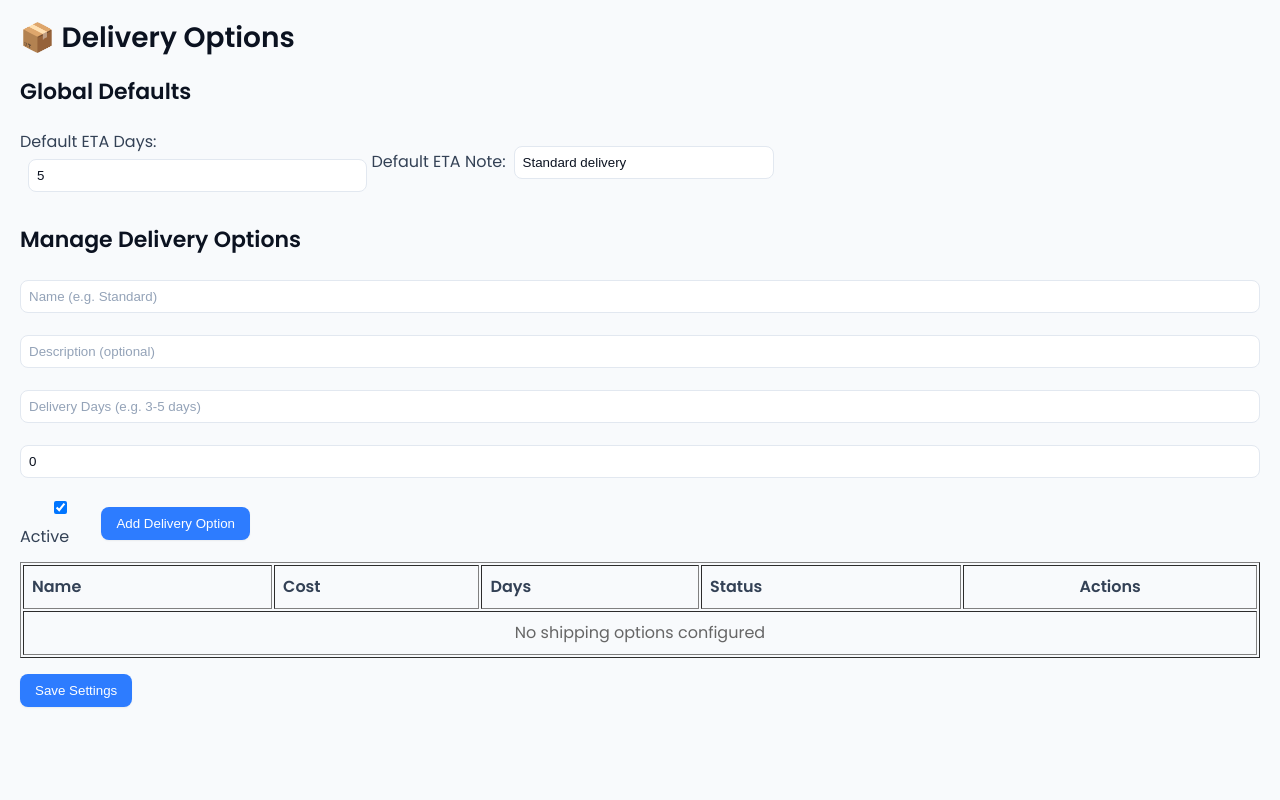
it: AdminDeliveryOptions › can add a delivery option
In the field with placeholder "Name (e.g. Standard)": x=640, y=297 [20,280,1260,313], type "Express"
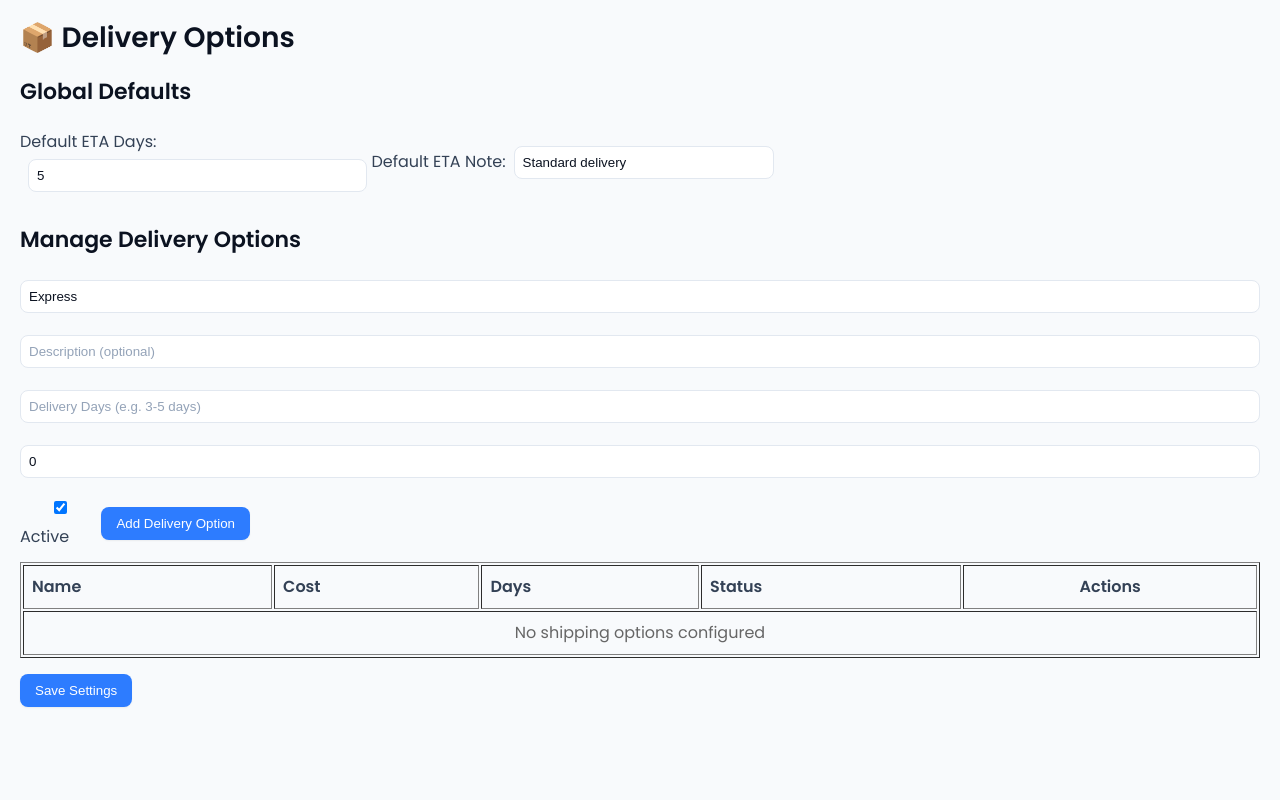
In the field with placeholder "Delivery Days (e.g. 3-5 days)": x=640, y=407 [20,390,1260,423], type "1-2"
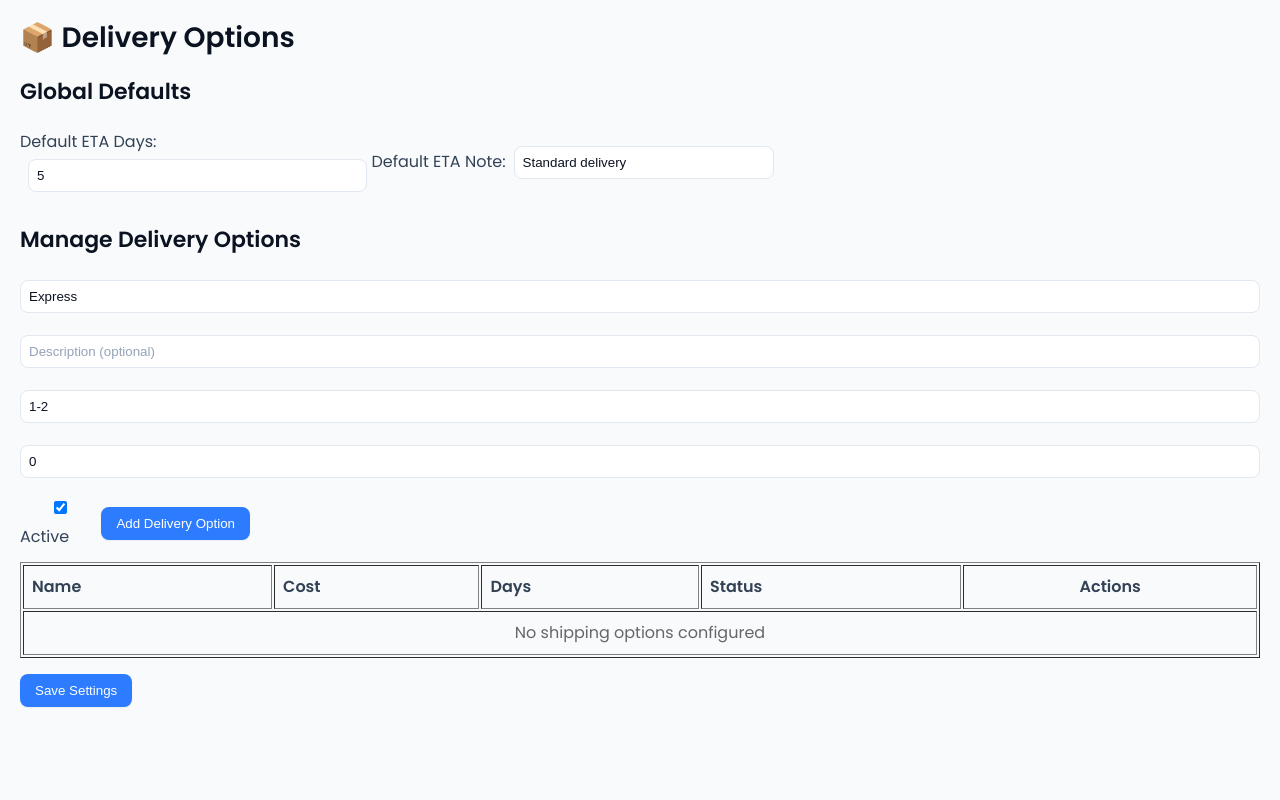
Replace the text in the number field with placeholder "Cost (e.g. 5.00)" with "10": x=640, y=462 [20,445,1260,478]
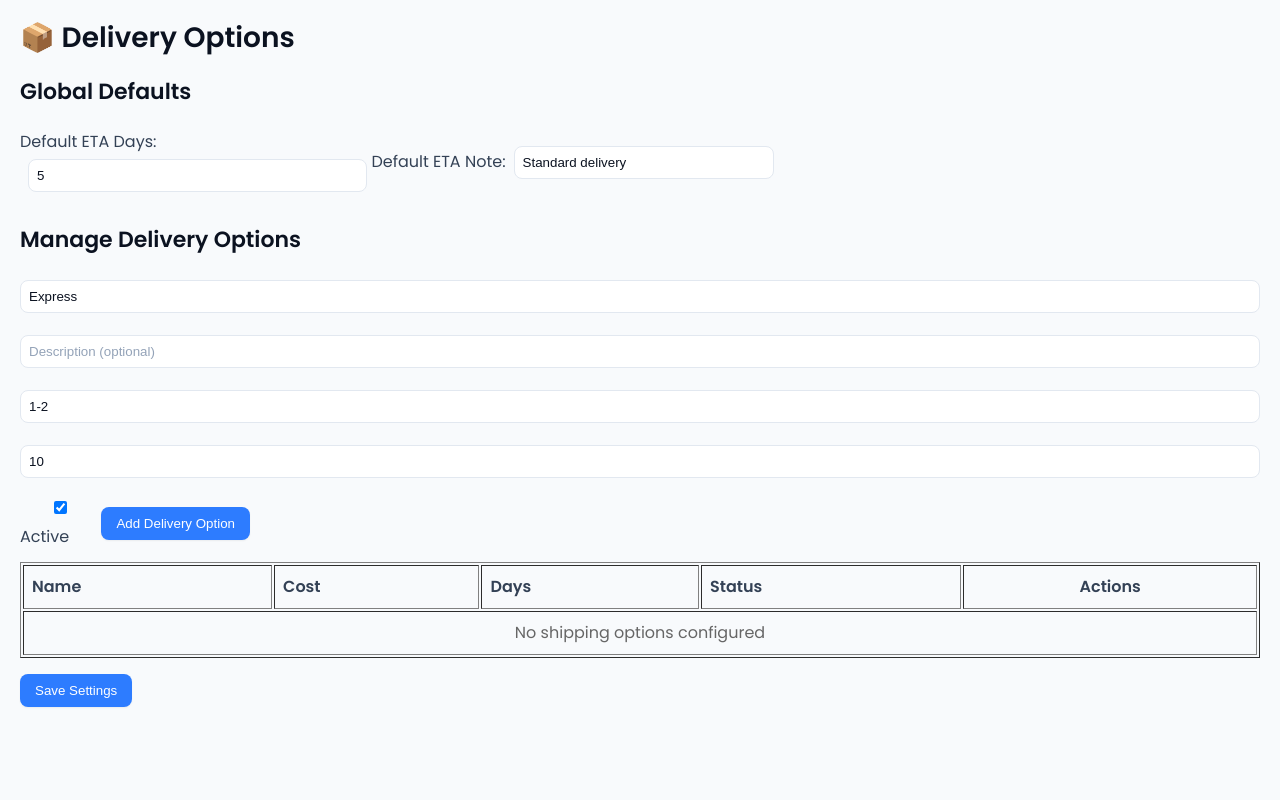
Click the button "Add Delivery Option": x=176, y=523 [101,507,250,540]
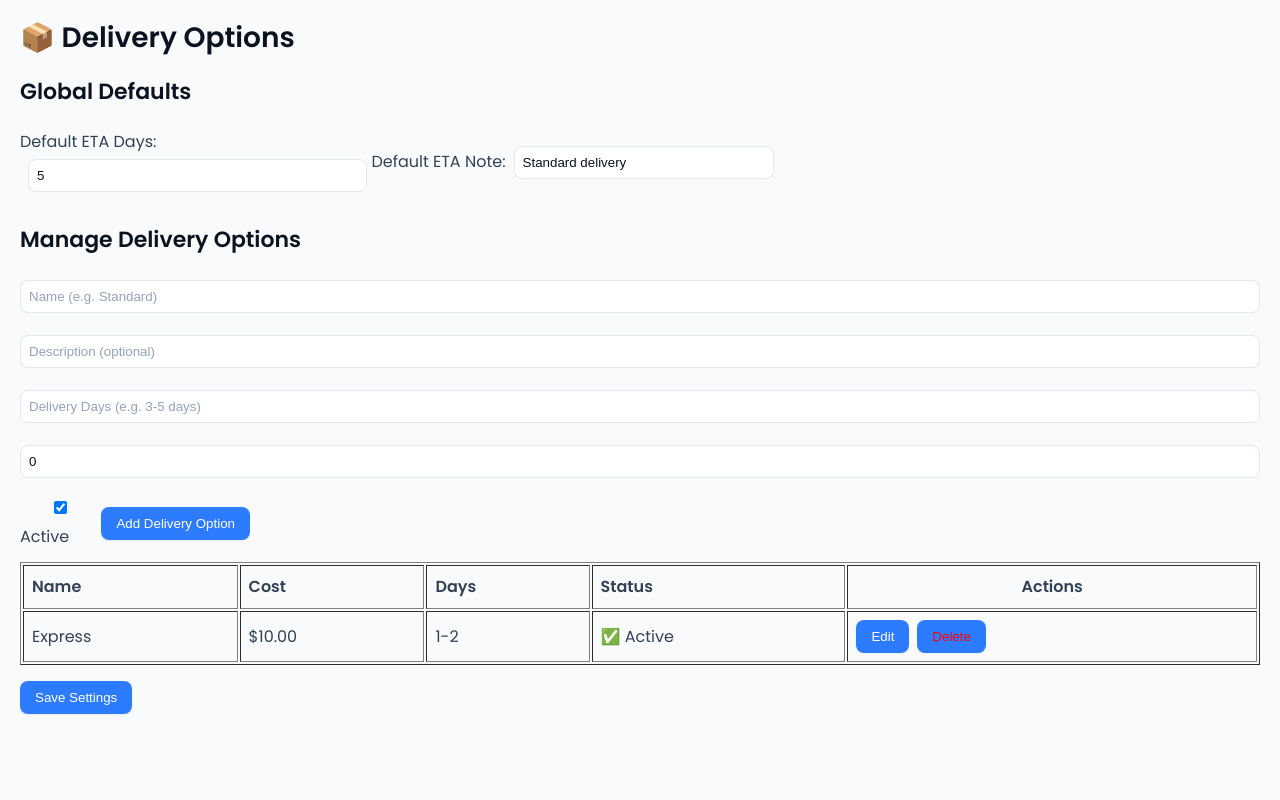
Expected: the text "Express" is shown, [23,611,238,662]
